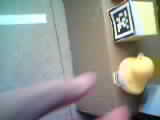duck: (114, 46, 146, 94)
